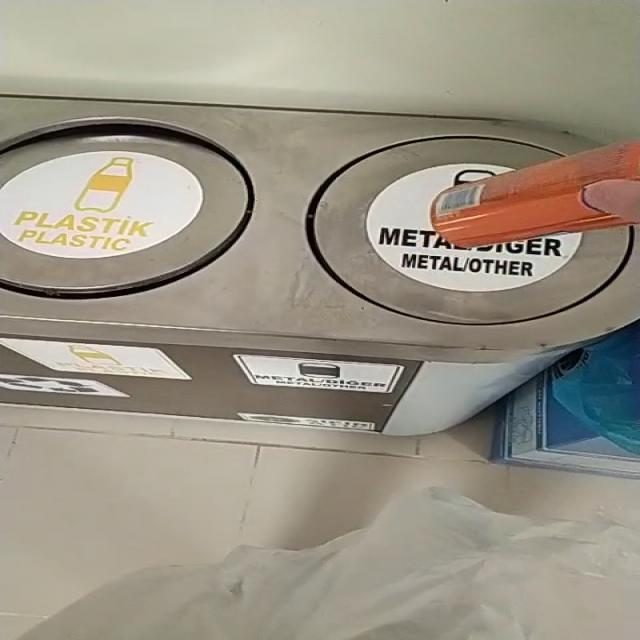bin: (0, 96, 640, 436)
metal: (433, 140, 640, 247)
